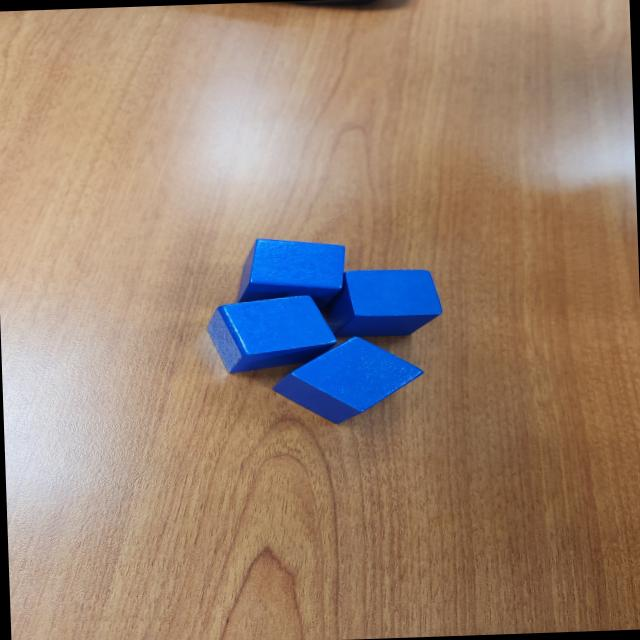blue: (270, 334, 426, 426), (205, 294, 339, 376), (316, 268, 444, 338), (233, 235, 348, 308)
